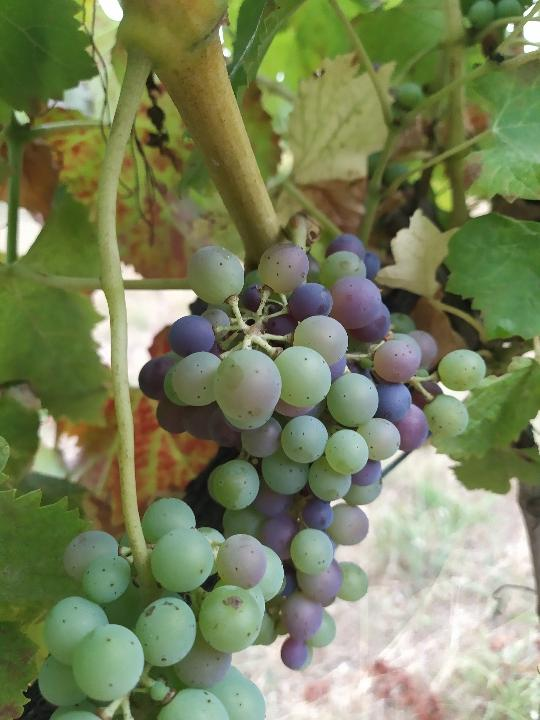grape: (135, 230, 488, 676)
